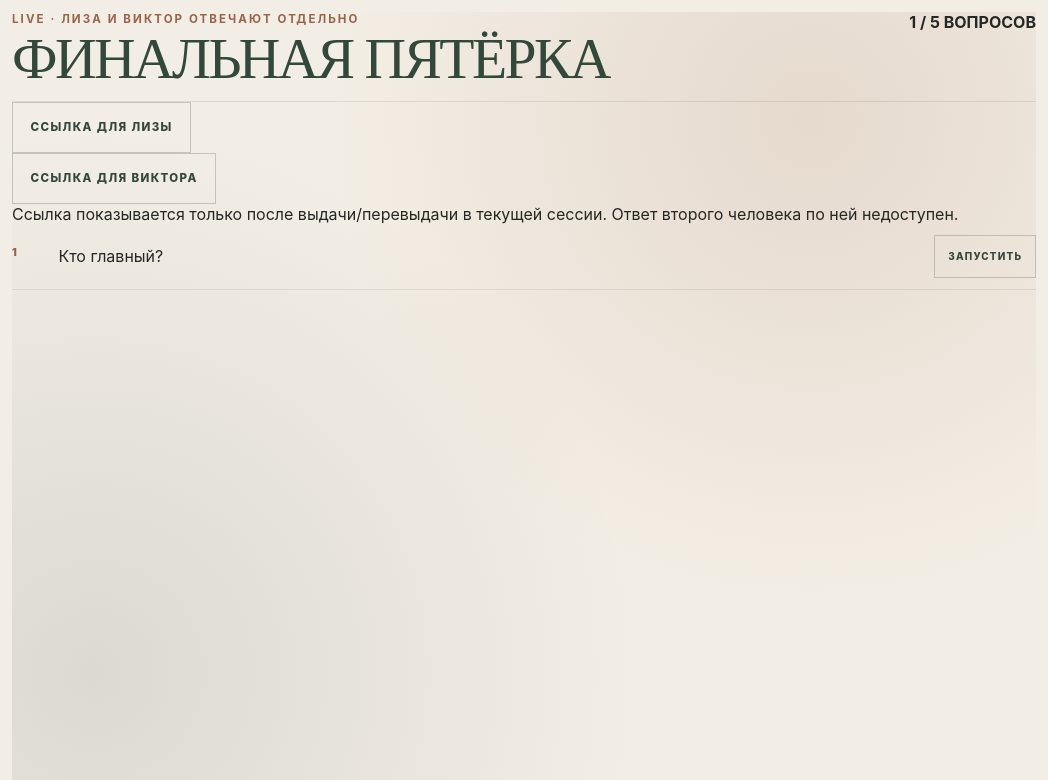
Test: AdminFinalFivePanel › issues separate private links for Liza and Viktor without persisting plaintext in status
Click the button "ССЫЛКА ДЛЯ ЛИЗЫ" at (102, 127), box [12,102,191,153]
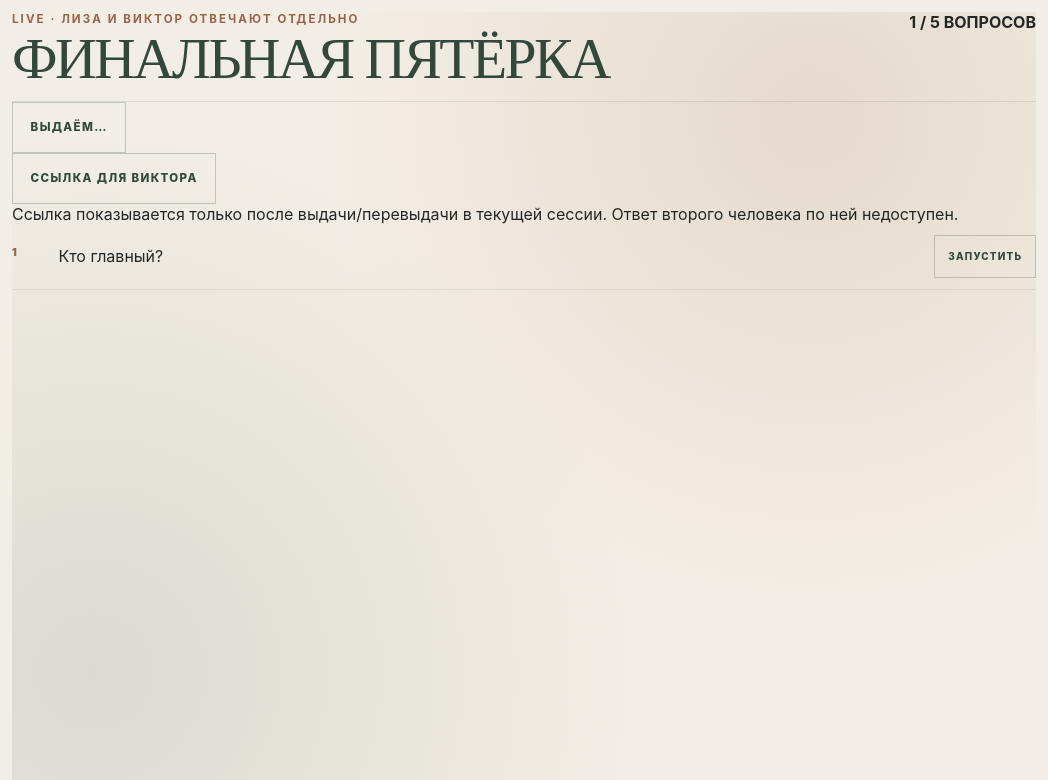
Click the button "ССЫЛКА ДЛЯ ВИКТОРА" at (114, 178), box [12,153,216,204]
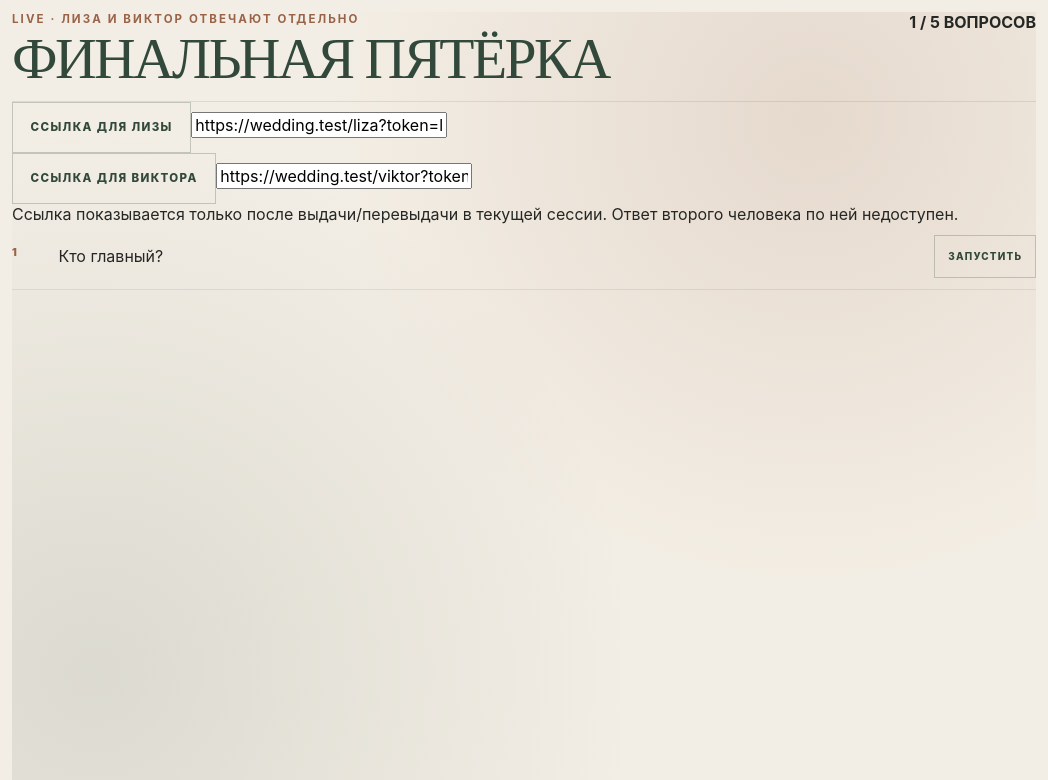
Check: the field showing "https://wedding.test/liza?token=liza-secret" is shown, box [191,112,447,138]
Check: the field showing "https://wedding.test/viktor?token=viktor-secret" is shown, box [216,163,472,189]
